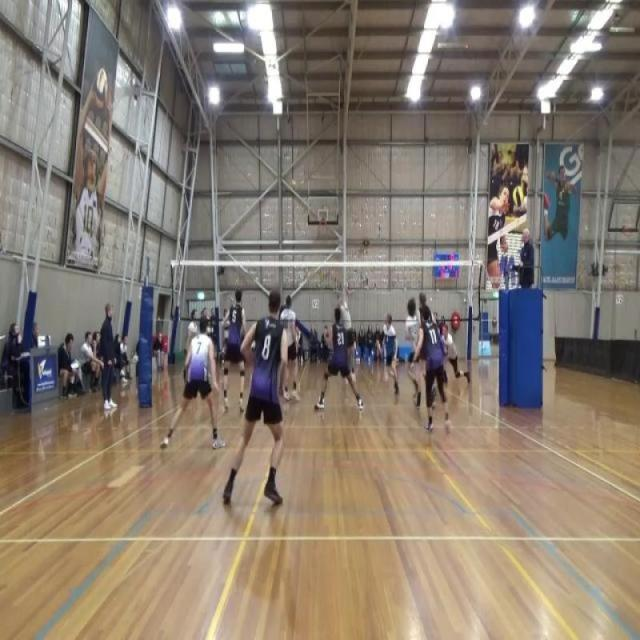volleyball: (94, 66, 108, 110), (512, 184, 525, 209), (290, 178, 298, 190)
